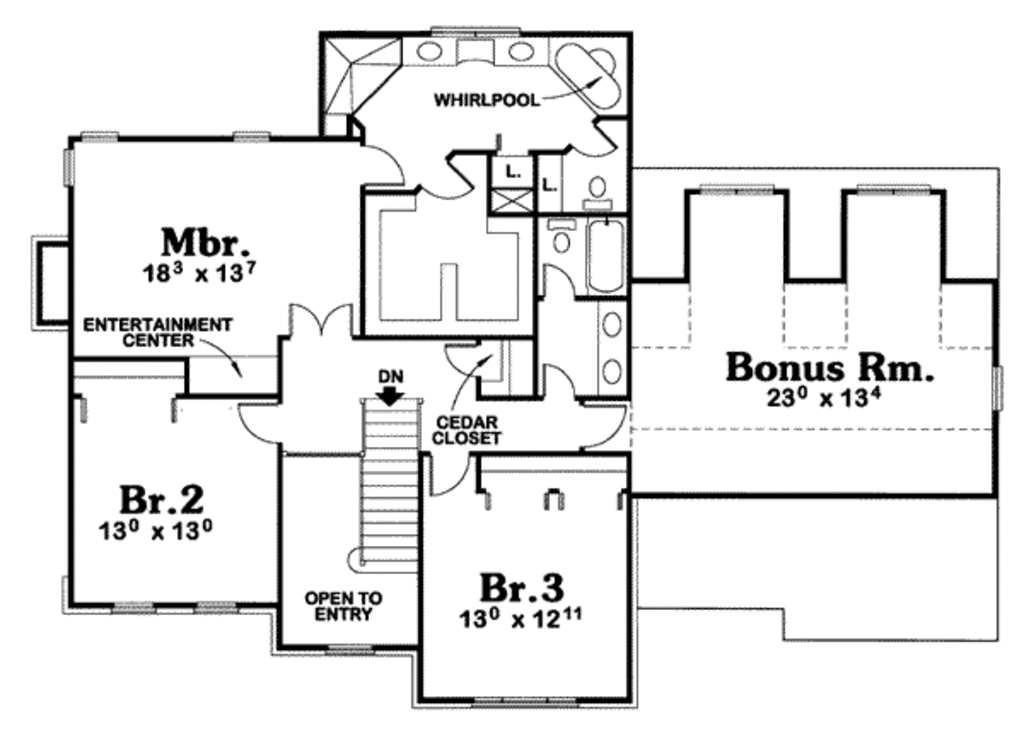door: (283, 296, 359, 340), (359, 142, 409, 192), (580, 400, 629, 451), (425, 448, 474, 498), (420, 158, 475, 202), (234, 401, 283, 449), (570, 122, 622, 161), (537, 358, 581, 404), (437, 336, 481, 381), (539, 261, 575, 299)
large_sink: (572, 171, 616, 209), (542, 214, 578, 258)
small_sink: (403, 29, 553, 75), (590, 294, 627, 397)
stairs: (348, 368, 425, 579)
tub: (550, 33, 632, 120), (586, 214, 628, 297)
window: (463, 689, 578, 713), (698, 177, 778, 199), (846, 181, 933, 200), (104, 596, 159, 621), (322, 639, 374, 664), (230, 127, 280, 150), (183, 600, 239, 620), (56, 145, 79, 192), (990, 364, 1008, 421), (81, 130, 119, 149)
